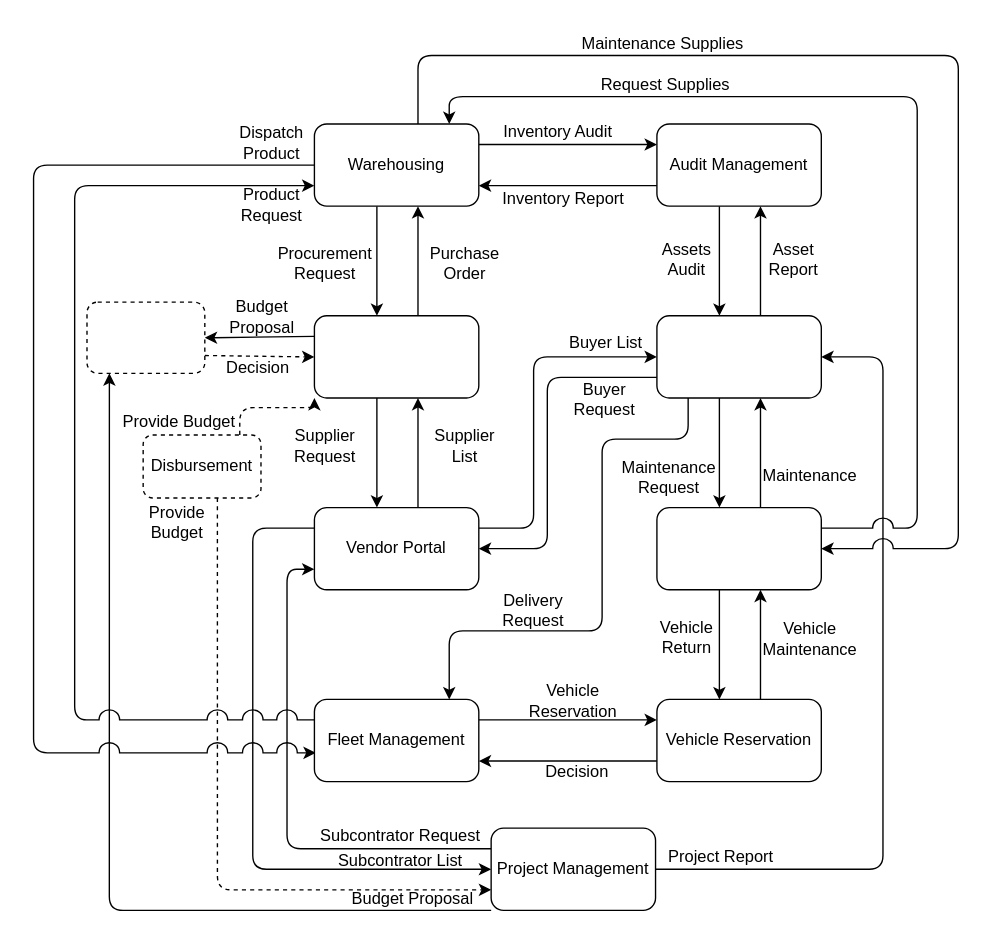
Some shapes in this 993 by 945 pixel diagram are drawn without their labels. Here are the shapes that lost their labels. From the top down, the centre of each, then its label:
At (x=145, y=337): "Budget Management".
At (x=396, y=356): "Procurement".
At (x=738, y=356): "Asset Management".
At (x=738, y=548): "Maintenance, Repair and Overhaul".
